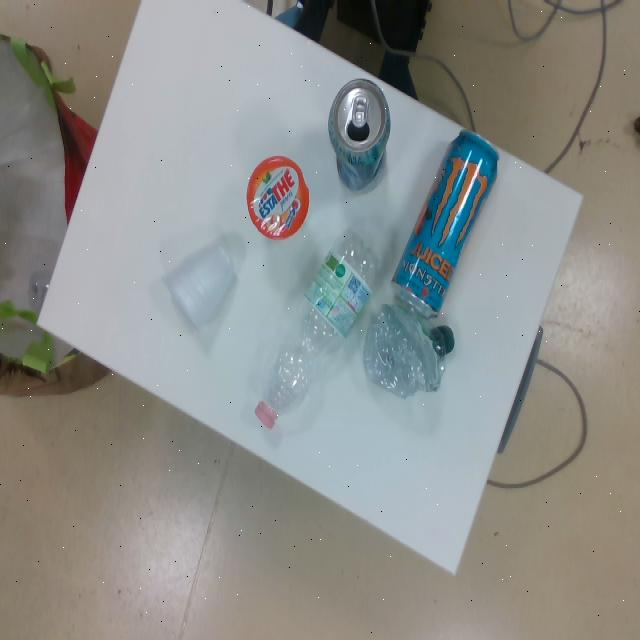aluminum: (391, 127, 500, 321), (328, 75, 393, 193)
plastic: (253, 227, 385, 432), (363, 301, 460, 401), (164, 242, 236, 335), (245, 152, 311, 242)
